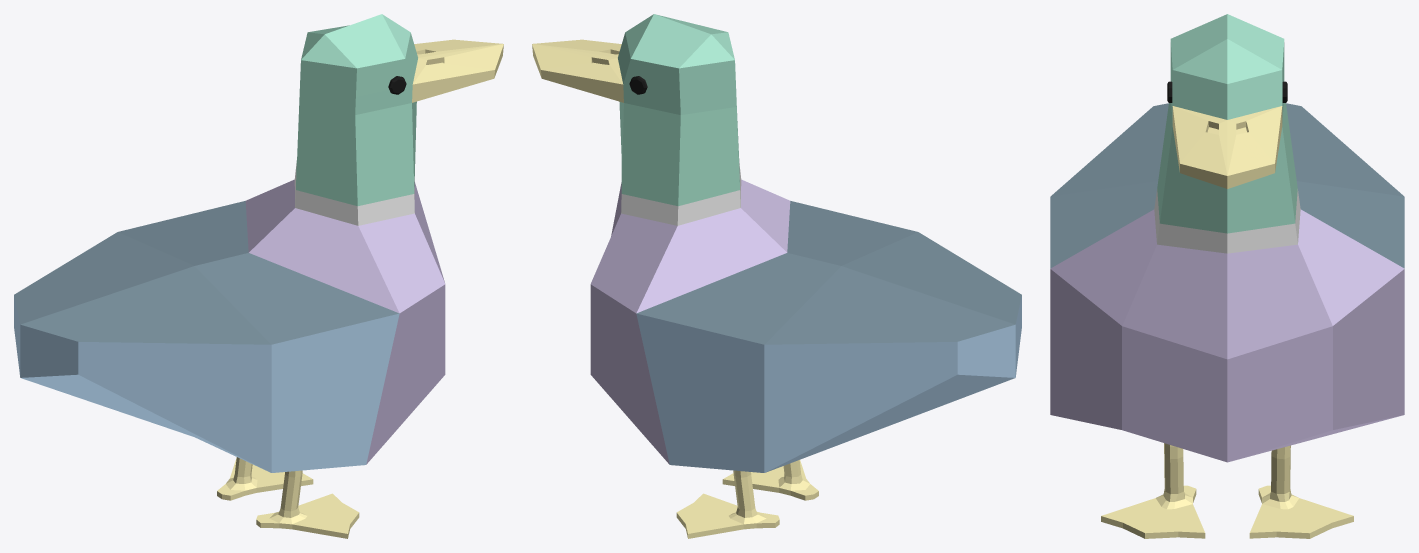
File: duck.glb
3 views of the same model, side by side, from view 1: azimuth 30°, elevation 25°; view 2: azimuth 150°, elevation 25°; view 3: azimuth 270°, elevation 25° (orthographic). The views are drawn at different scales.
Parts seen in each view (by area): view 1: duck.001; view 2: duck.001; view 3: duck.001.
Part boxes in pixels (bbox=[...]): duck.001: bbox=[14, 14, 503, 538]; duck.001: bbox=[532, 14, 1021, 538]; duck.001: bbox=[1050, 14, 1404, 538].
Size of the model in its own units: 1.31 by 1.19 by 0.7199.
